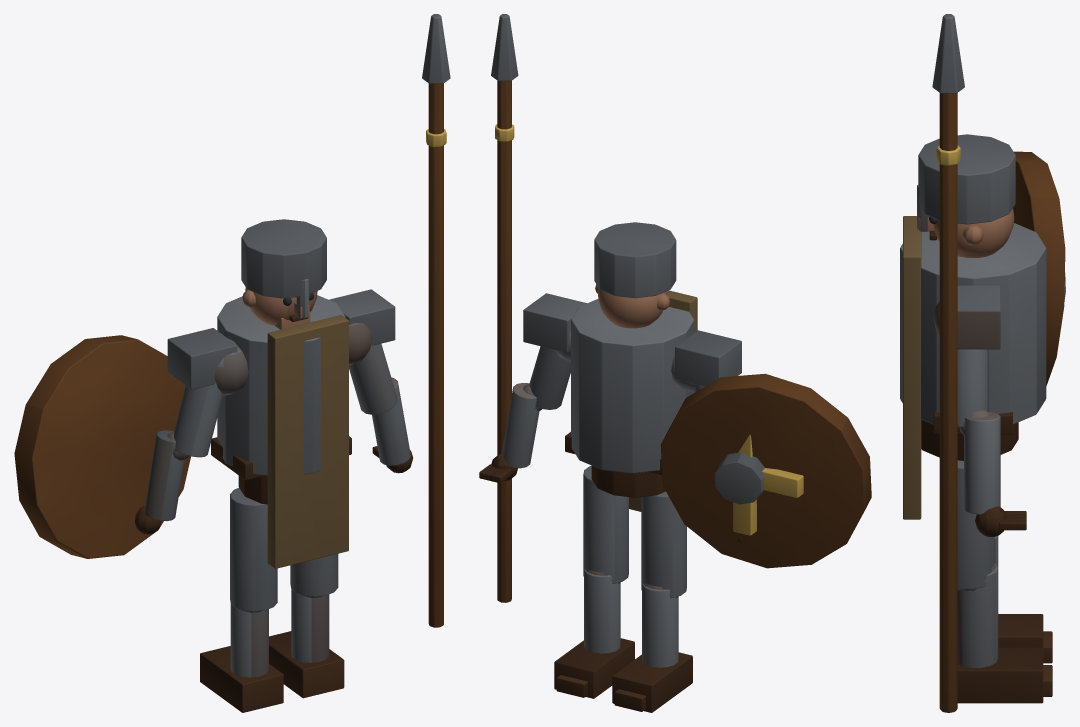
Rendered from unit_royal_legion.fbx.
3 renders of one model, left to right at view 1: azimuth 30°, elevation 25°; view 2: azimuth 150°, elevation 25°; view 3: azimuth 270°, elevation 25°, orthographic. The views are drawn at different scales.
Parts seen in each view (by area): view 1: unit_royal_legion; view 2: unit_royal_legion; view 3: unit_royal_legion.
Boxes of the visible parts, x1,y1,x2,y2 form: unit_royal_legion: (14, 14, 450, 712); unit_royal_legion: (479, 14, 871, 712); unit_royal_legion: (900, 14, 1065, 712).
Size of the model in its own units: 1.76 by 2.67 by 0.543.
